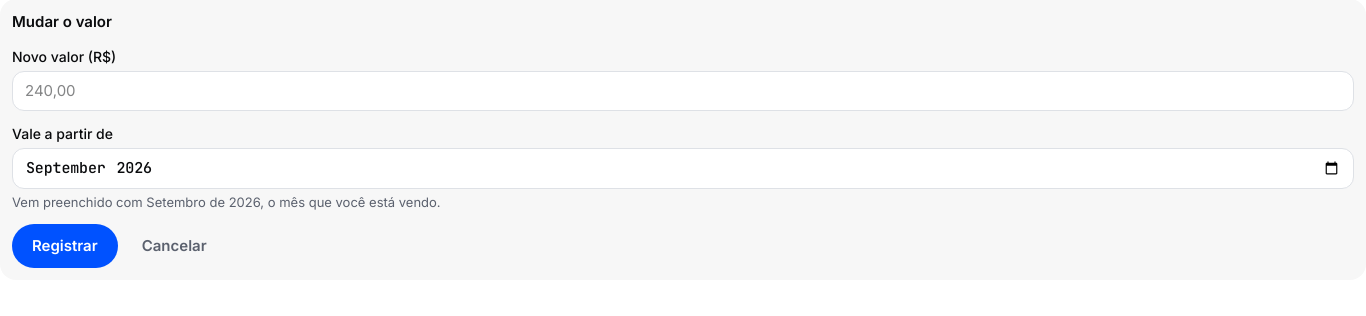
mudar valor (FIXO-03; FIXCOL-05, ACs 1, 2, 6 e 7) › texto que não é valor reprova antes de sair do navegador
This screenshot has width=1366, height=316.
In the field labelled "Novo valor (R$)": (683, 91) left=12, top=70, right=1354, bottom=111, type "abc"
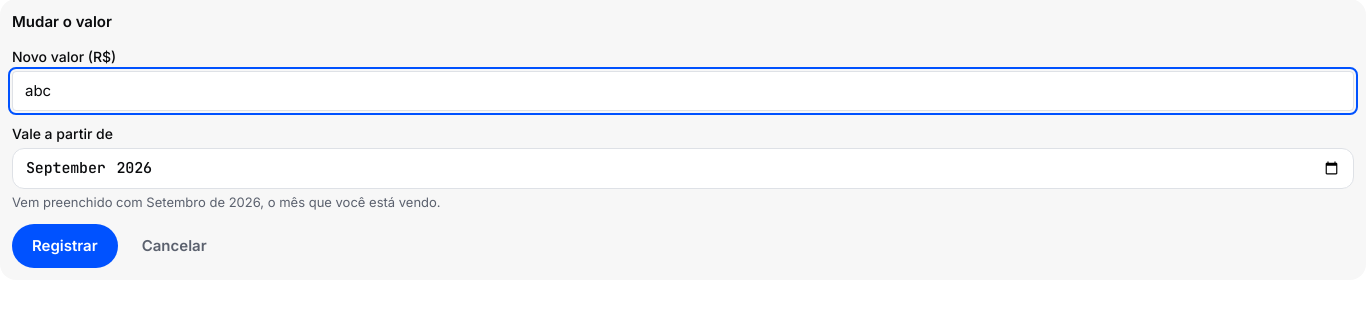
Click the button "Registrar": (65, 246) left=12, top=224, right=118, bottom=268
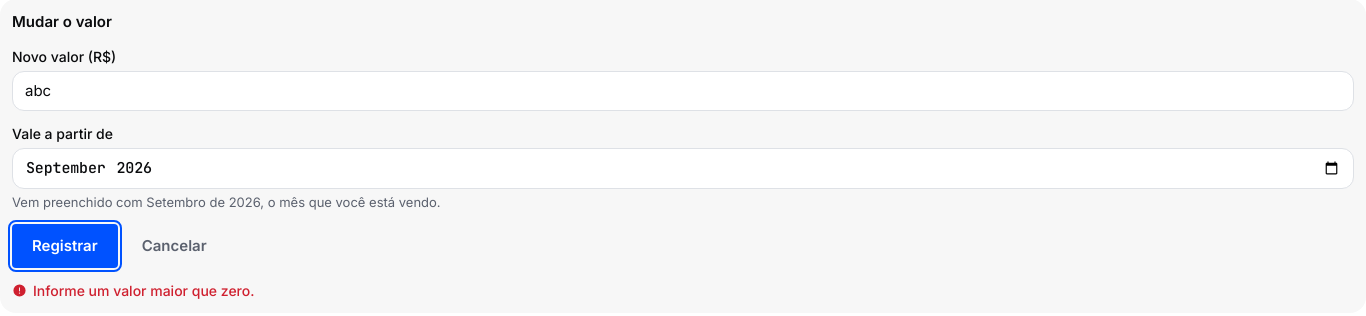
Check: the message "Informe um valor maior que zero." is shown, box left=12, top=282, right=254, bottom=299
